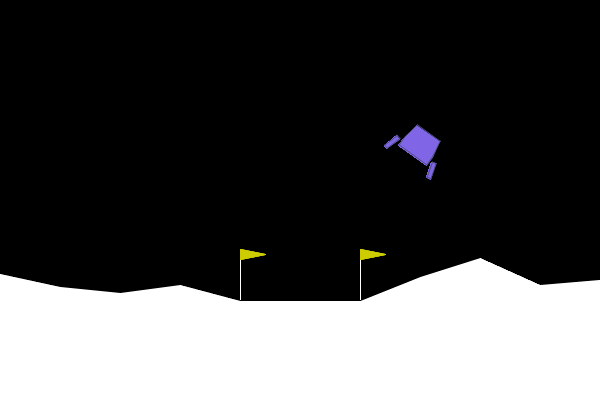lander: (382, 114, 454, 182)
